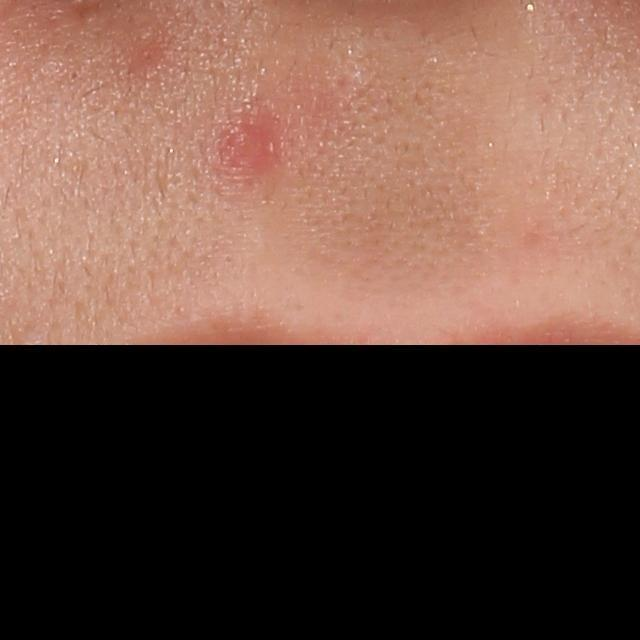papule: (222, 118, 275, 172)
